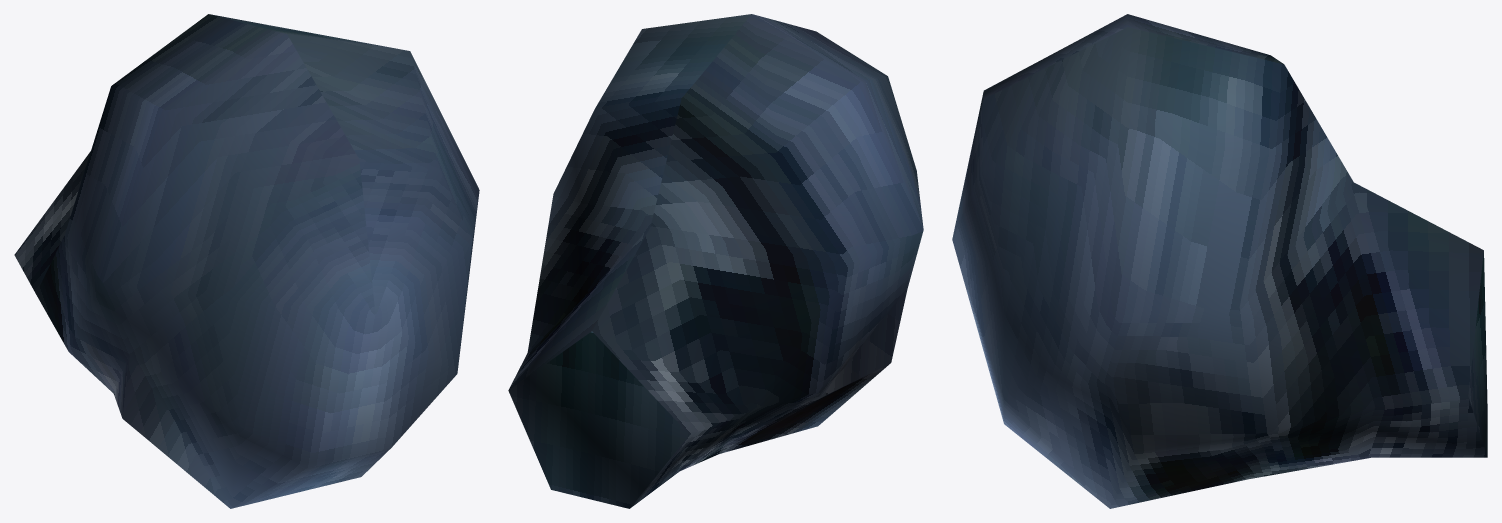
Rendered from skullghost.glb.
3 views of the same model, side by side, from view 1: azimuth 30°, elevation 25°; view 2: azimuth 150°, elevation 25°; view 3: azimuth 270°, elevation 25° (orthographic). The views are drawn at different scales.
Parts seen in each view (by area): view 1: model_skullghost; view 2: model_skullghost; view 3: model_skullghost.
Boxes of the visible parts, <box> form: model_skullghost: <box>14,14,479,508</box>; model_skullghost: <box>508,14,923,508</box>; model_skullghost: <box>952,14,1487,508</box>.
Bounding box in the file's own units: 0.3089 × 0.3541 × 0.3819.
Materials: 1 (1 with a texture image).
